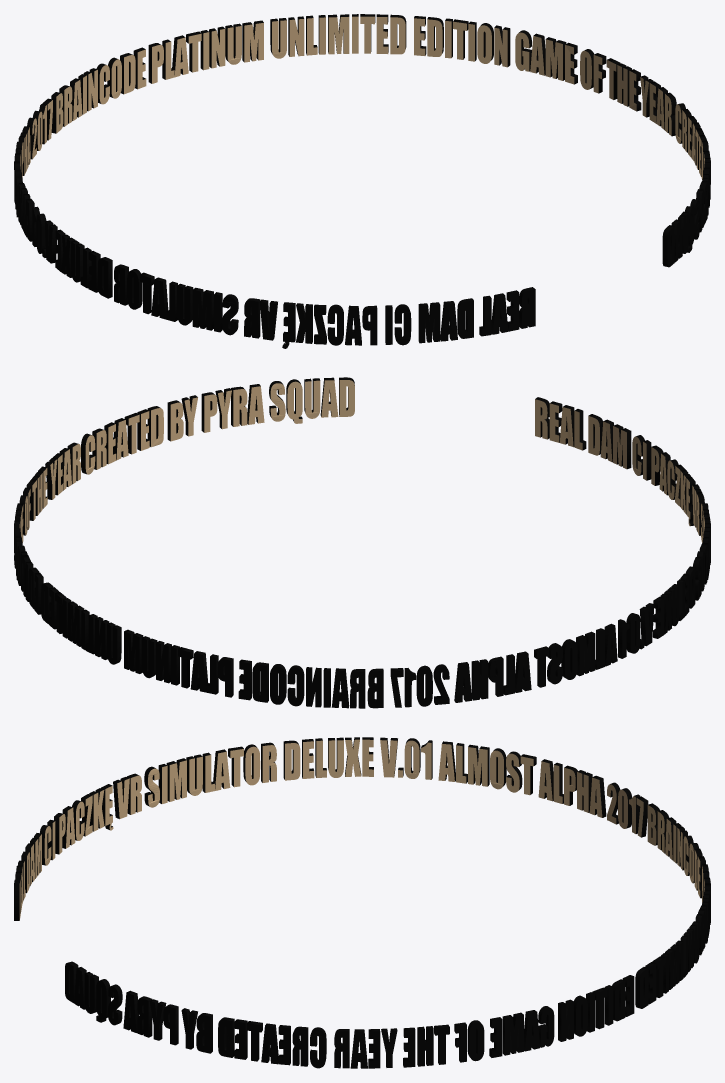
File: tytul.fbx
3 views of the same model, one above another, from view 1: azimuth 30°, elevation 25°; view 2: azimuth 150°, elevation 25°; view 3: azimuth 270°, elevation 25° (orthographic).
Visible parts, largest first — view 1: Text.002; view 2: Text.002; view 3: Text.002.
Part boxes in pixels (left/top/right/bottom): Text.002: left=14, top=14, right=710, bottom=348; Text.002: left=14, top=377, right=710, bottom=708; Text.002: left=14, top=737, right=710, bottom=1068.
Size of the model in its own units: 140742 by 10036 by 140731.
